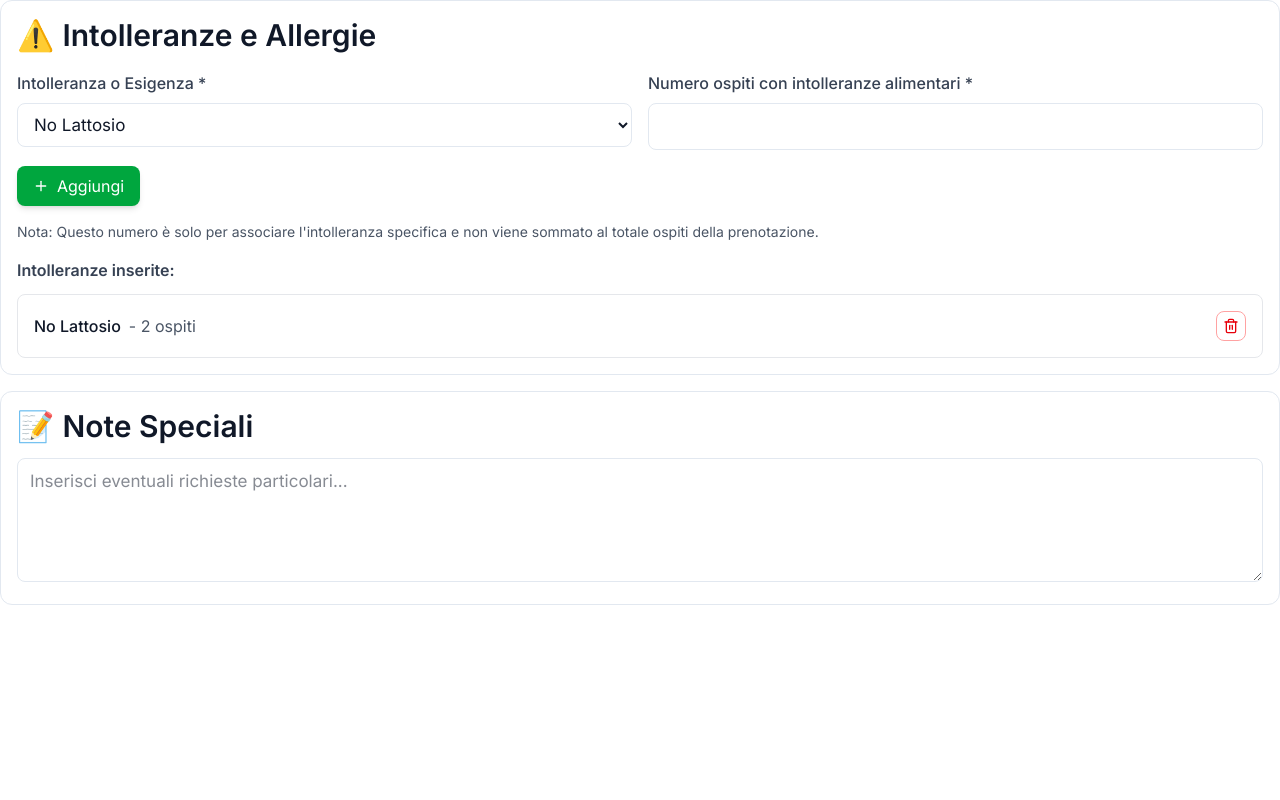
Test: DietaryTab — delete confirmation › shows confirmation modal when clicking trash icon
The image size is (1280, 800).
Click the 2nd button. click: (1231, 326)
box: [1216,311,1246,341]
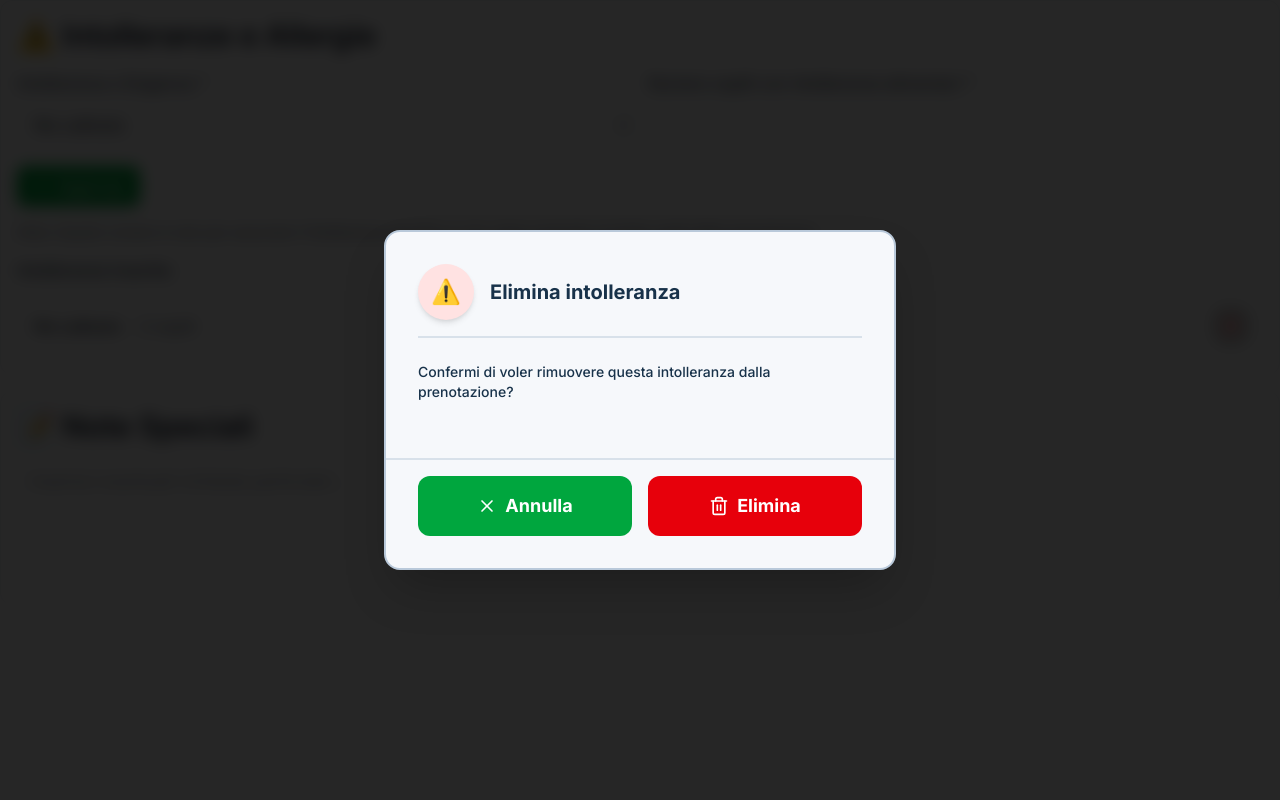
Check: the heading "Elimina intolleranza" is shown, box [490,280,680,304]
Check: the text "Confermi di voler rimuovere questa intolleranza" is shown, box [418,363,770,400]
